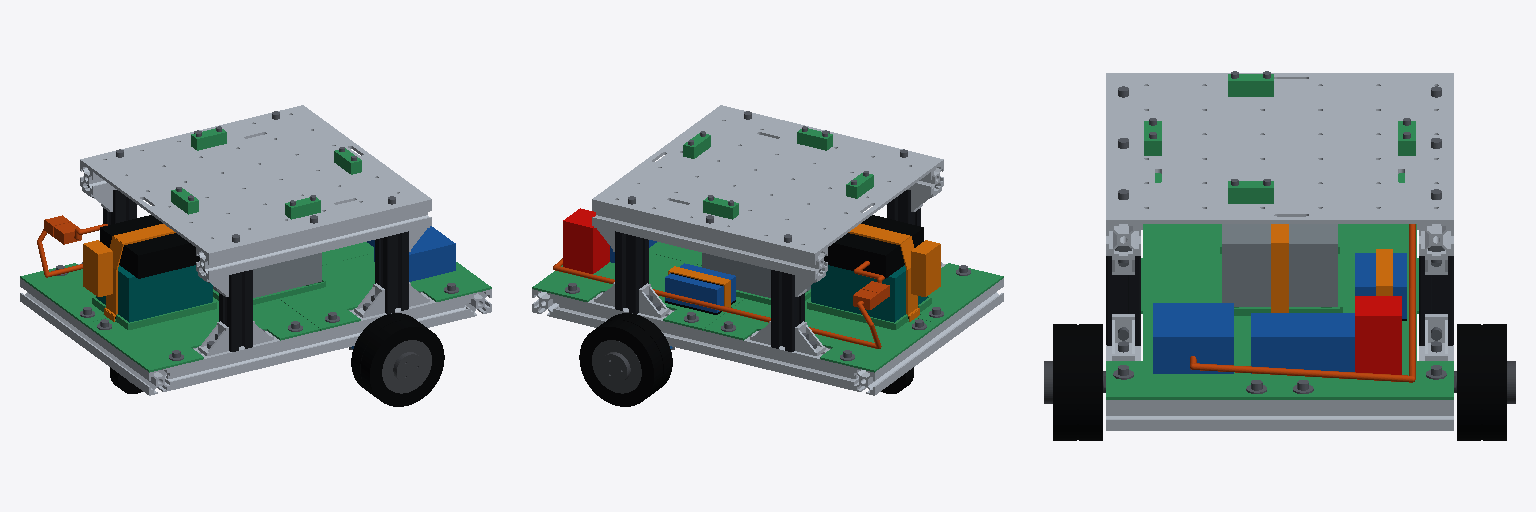
robot.urdf — amr_d64:
<?xml version='1.0' encoding='utf-8'?>
<robot name="amr_d64">
  <!--Generated from D6.4. SI units; +X forward, +Y left, +Z up. Inertias are estimates.-->
  <material name="aluminum">
    <color rgba="0.72 0.75 0.79 1" />
  </material>
  <material name="steel">
    <color rgba="0.38 0.4 0.43 1" />
  </material>
  <material name="pla">
    <color rgba="0.22 0.61 0.38 1" />
  </material>
  <material name="posts">
    <color rgba="0.12 0.13 0.15 1" />
  </material>
  <material name="mounts">
    <color rgba="0.15 0.43 0.69 1" />
  </material>
  <material name="motor">
    <color rgba="0.3 0.31 0.33 1" />
  </material>
  <material name="rubber">
    <color rgba="0.055 0.06 0.065 1" />
  </material>
  <material name="battery">
    <color rgba="0.02 0.4 0.4 1" />
  </material>
  <material name="computer">
    <color rgba="0.5 0.54 0.57 1" />
  </material>
  <material name="electronics">
    <color rgba="0.12 0.37 0.67 1" />
  </material>
  <material name="estop">
    <color rgba="0.85 0.08 0.06 1" />
  </material>
  <material name="belts">
    <color rgba="0.88 0.47 0.07 1" />
  </material>
  <material name="wires">
    <color rgba="0.76 0.3 0.08 1" />
  </material>
  <material name="payload">
    <color rgba="0.66 0.44 0.23 1" />
  </material>
  <link name="left_wheel_link">
    <inertial>
      <origin xyz="2.68715937167e-07 0.000842844210193 -1.43130870062e-06" rpy="0 0 0" />
      <mass value="0.45" />
      <inertia ixx="0.000337824360516" ixy="2.57511255333e-09" ixz="-2.83491628371e-11" iyy="0.000517319399072" iyz="-1.83797301139e-08" izz="0.000337817873043" />
    </inertial>
    <visual name="left_wheel_link_motor">
      <geometry>
        <mesh filename="meshes/left_wheel_link_motor.stl" scale="1 1 1" />
      </geometry>
      <material name="motor" />
    </visual>
    <visual name="left_wheel_link_rubber">
      <geometry>
        <mesh filename="meshes/left_wheel_link_rubber.stl" scale="1 1 1" />
      </geometry>
      <material name="rubber" />
    </visual>
    <collision name="left_wheel_link_rolling_contact">
      <origin xyz="0 0 0" rpy="1.57079632679 0 0" />
      <geometry>
        <cylinder radius="0.05035" length="0.043" />
      </geometry>
    </collision>
  </link>
  <link name="base_link">
    <inertial>
      <origin xyz="-0.0933615788726 -0.000826180823834 0.0802085217058" rpy="0 0 0" />
      <mass value="9.00487528613" />
      <inertia ixx="0.117124651941" ixy="0.0016813272398" ixz="0.0052368523072" iyy="0.169186420379" iyz="0.000154601519969" izz="0.221908703267" />
    </inertial>
    <visual name="base_link_motor">
      <geometry>
        <mesh filename="meshes/base_link_motor.stl" scale="1 1 1" />
      </geometry>
      <material name="motor" />
    </visual>
    <visual name="base_link_steel">
      <geometry>
        <mesh filename="meshes/base_link_steel.stl" scale="1 1 1" />
      </geometry>
      <material name="steel" />
    </visual>
    <visual name="base_link_aluminum">
      <geometry>
        <mesh filename="meshes/base_link_aluminum.stl" scale="1 1 1" />
      </geometry>
      <material name="aluminum" />
    </visual>
    <visual name="base_link_mounts">
      <geometry>
        <mesh filename="meshes/base_link_mounts.stl" scale="1 1 1" />
      </geometry>
      <material name="mounts" />
    </visual>
    <visual name="base_link_pla">
      <geometry>
        <mesh filename="meshes/base_link_pla.stl" scale="1 1 1" />
      </geometry>
      <material name="pla" />
    </visual>
    <visual name="base_link_posts">
      <geometry>
        <mesh filename="meshes/base_link_posts.stl" scale="1 1 1" />
      </geometry>
      <material name="posts" />
    </visual>
    <visual name="base_link_electronics">
      <geometry>
        <mesh filename="meshes/base_link_electronics.stl" scale="1 1 1" />
      </geometry>
      <material name="electronics" />
    </visual>
    <visual name="base_link_estop">
      <geometry>
        <mesh filename="meshes/base_link_estop.stl" scale="1 1 1" />
      </geometry>
      <material name="estop" />
    </visual>
    <visual name="base_link_computer">
      <geometry>
        <mesh filename="meshes/base_link_computer.stl" scale="1 1 1" />
      </geometry>
      <material name="computer" />
    </visual>
    <visual name="base_link_battery">
      <geometry>
        <mesh filename="meshes/base_link_battery.stl" scale="1 1 1" />
      </geometry>
      <material name="battery" />
    </visual>
    <visual name="base_link_rubber">
      <geometry>
        <mesh filename="meshes/base_link_rubber.stl" scale="1 1 1" />
      </geometry>
      <material name="rubber" />
    </visual>
    <visual name="base_link_belts">
      <geometry>
        <mesh filename="meshes/base_link_belts.stl" scale="1 1 1" />
      </geometry>
      <material name="belts" />
    </visual>
    <visual name="base_link_wires">
      <geometry>
        <mesh filename="meshes/base_link_wires.stl" scale="1 1 1" />
      </geometry>
      <material name="wires" />
    </visual>
    <collision name="base_link_Rail400_1">
      <origin xyz="-0.09 -0.135 0.03365" rpy="0 0 0" />
      <geometry>
        <box size="0.4 0.03 0.03" />
      </geometry>
    </collision>
    <collision name="base_link_Rail400_2">
      <origin xyz="-0.09 -0.065 0.03365" rpy="0 0 0" />
      <geometry>
        <box size="0.4 0.03 0.03" />
      </geometry>
    </collision>
    <collision name="base_link_Rail400_3">
      <origin xyz="-0.09 0.065 0.03365" rpy="0 0 0" />
      <geometry>
        <box size="0.4 0.03 0.03" />
      </geometry>
    </collision>
    <collision name="base_link_Rail400_4">
      <origin xyz="-0.09 0.135 0.03365" rpy="0 0 0" />
      <geometry>
        <box size="0.4 0.03 0.03" />
      </geometry>
    </collision>
    <collision name="base_link_Cross300_1">
      <origin xyz="-0.305 0 0.03365" rpy="0 0 0" />
      <geometry>
        <box size="0.03 0.3 0.03" />
      </geometry>
    </collision>
    <collision name="base_link_Cross300_2">
      <origin xyz="0.125 0 0.03365" rpy="0 0 0" />
      <geometry>
        <box size="0.03 0.3 0.03" />
      </geometry>
    </collision>
    <collision name="base_link_CustomMotorMountL">
      <origin xyz="0 0.135 0.00165" rpy="0 0 0" />
      <geometry>
        <box size="0.09 0.03 0.034" />
      </geometry>
    </collision>
    <collision name="base_link_CustomMotorMountR">
      <origin xyz="0 -0.135 0.00165" rpy="0 0 0" />
      <geometry>
        <box size="0.09 0.03 0.034" />
      </geometry>
    </collision>
    <collision name="base_link_CasterAdapter">
      <origin xyz="-0.24 0 0.01665" rpy="0 0 0" />
      <geometry>
        <box size="0.08 0.17 0.004" />
      </geometry>
    </collision>
    <collision name="base_link_CasterTop">
      <origin xyz="-0.24 0 0.0134" rpy="0 0 0" />
      <geometry>
        <box size="0.059 0.047 0.0025" />
      </geometry>
    </collision>
    <collision name="base_link_Reserved_Protection">
      <origin xyz="0.08 -0.075 0.07915" rpy="0 0 0" />
      <geometry>
        <box size="0.07 0.07 0.035" />
      </geometry>
    </collision>
    <collision name="base_link_Reserved_ClampAndPower">
      <origin xyz="0.09 0.02 0.07915" rpy="0 0 0" />
      <geometry>
        <box size="0.05 0.09 0.035" />
      </geometry>
    </collision>
    <collision name="base_link_Reserved_EmergencyStop">
      <origin xyz="0.105 0.085 0.09165" rpy="0 0 0" />
      <geometry>
        <box size="0.04 0.04 0.06" />
      </geometry>
    </collision>
    <collision name="base_link_Reserved_SupervisorRS485">
      <origin xyz="-0.05 0.0875 0.06865" rpy="0 0 0" />
      <geometry>
        <box size="0.07 0.045 0.03" />
      </geometry>
    </collision>
    <collision name="base_link_Reserved_Computer">
      <origin xyz="-0.09 0 0.08765" rpy="0 0 0" />
      <geometry>
        <box size="0.12 0.1 0.06" />
      </geometry>
    </collision>
    <collision name="base_link_AluminumDeckD3">
      <origin xyz="-0.09 0 0.18065" rpy="0 0 0" />
      <geometry>
        <box size="0.3 0.3 0.004" />
      </geometry>
    </collision>
    <collision name="base_link_PrintedStopXN">
      <origin xyz="-0.1995 -0.025 0.19015" rpy="0 0 0" />
      <geometry>
        <box size="0.015 0.04 0.015" />
      </geometry>
    </collision>
    <collision name="base_link_PrintedStopXP">
      <origin xyz="0.0195 -0.025 0.19015" rpy="0 0 0" />
      <geometry>
        <box size="0.015 0.04 0.015" />
      </geometry>
    </collision>
    <collision name="base_link_PrintedStopYN">
      <origin xyz="-0.09 -0.1095 0.19015" rpy="0 0 0" />
      <geometry>
        <box size="0.04 0.015 0.015" />
      </geometry>
    </collision>
    <collision name="base_link_PrintedStopYP">
      <origin xyz="-0.09 0.1095 0.19015" rpy="0 0 0" />
      <geometry>
        <box size="0.04 0.015 0.015" />
      </geometry>
    </collision>
    <collision name="base_link_Upright3030_0">
      <origin xyz="-0.195 -0.135 0.09865" rpy="0 0 0" />
      <geometry>
        <box size="0.03 0.03 0.1" />
      </geometry>
    </collision>
    <collision name="base_link_Upright3030_1">
      <origin xyz="-0.195 0.135 0.09865" rpy="0 0 0" />
      <geometry>
        <box size="0.03 0.03 0.1" />
      </geometry>
    </collision>
    <collision name="base_link_Upright3030_2">
      <origin xyz="0.015 -0.135 0.09865" rpy="0 0 0" />
      <geometry>
        <box size="0.03 0.03 0.1" />
      </geometry>
    </collision>
    <collision name="base_link_Upright3030_3">
      <origin xyz="0.015 0.135 0.09865" rpy="0 0 0" />
      <geometry>
        <box size="0.03 0.03 0.1" />
      </geometry>
    </collision>
    <collision name="base_link_UpperRail3030_0">
      <origin xyz="-0.09 -0.135 0.16365" rpy="0 0 0" />
      <geometry>
        <box size="0.3 0.03 0.03" />
      </geometry>
    </collision>
    <collision name="base_link_UpperRail3030_1">
      <origin xyz="-0.09 0.135 0.16365" rpy="0 0 0" />
      <geometry>
        <box size="0.3 0.03 0.03" />
      </geometry>
    </collision>
    <collision name="base_link_seam_beam_0">
      <origin xyz="-0.09 0 0.0449" rpy="0 0 0" />
      <geometry>
        <box size="0.064 0.1 0.0025" />
      </geometry>
    </collision>
    <collision name="base_link_seam_beam_1">
      <origin xyz="-0.09 -0.02925 0.0474" rpy="0 0 0" />
      <geometry>
        <box size="0.064 0.0415 0.0025" />
      </geometry>
    </collision>
    <collision name="base_link_seam_beam_2">
      <origin xyz="-0.09 0.02925 0.0474" rpy="0 0 0" />
      <geometry>
        <box size="0.064 0.0415 0.0025" />
      </geometry>
    </collision>
    <collision name="base_link_seam_beam_3">
      <origin xyz="-0.1204 0 0.03615" rpy="0 0 0" />
      <geometry>
        <box size="0.0032 0.1 0.015" />
      </geometry>
    </collision>
    <collision name="base_link_seam_beam_4">
      <origin xyz="-0.0596 0 0.03615" rpy="0 0 0" />
      <geometry>
        <box size="0.0032 0.1 0.015" />
      </geometry>
    </collision>
    <collision name="base_link_seam_beam_5">
      <origin xyz="-0.09 -0.0484 0.03365" rpy="0 0 0" />
      <geometry>
        <box size="0.064 0.0032 0.02" />
      </geometry>
    </collision>
    <collision name="base_link_seam_beam_6">
      <origin xyz="-0.09 0.0484 0.03365" rpy="0 0 0" />
      <geometry>
        <box size="0.064 0.0032 0.02" />
      </geometry>
    </collision>
    <collision name="base_link_FloorPLA_0_0">
      <origin xyz="-0.2051 -0.0751 0.04985" rpy="0 0 0" />
      <geometry>
        <box size="0.2298 0.1498 0.0024" />
      </geometry>
    </collision>
    <collision name="base_link_FloorPLA_0_0_rib">
      <origin xyz="-0.206 -0.0235 0.04115" rpy="0 0 0" />
      <geometry>
        <box size="0.168 0.0174 0.015" />
      </geometry>
    </collision>
    <collision name="base_link_FloorPLA_0_1">
      <origin xyz="-0.2051 0.0751 0.04985" rpy="0 0 0" />
      <geometry>
        <box size="0.2298 0.1498 0.0024" />
      </geometry>
    </collision>
    <collision name="base_link_FloorPLA_0_1_rib">
      <origin xyz="-0.206 0.0235 0.04115" rpy="0 0 0" />
      <geometry>
        <box size="0.168 0.0174 0.015" />
      </geometry>
    </collision>
    <collision name="base_link_FloorPLA_1_0">
      <origin xyz="0.0251 -0.0751 0.04985" rpy="0 0 0" />
      <geometry>
        <box size="0.2298 0.1498 0.0024" />
      </geometry>
    </collision>
    <collision name="base_link_FloorPLA_1_0_rib">
      <origin xyz="0.026 -0.0235 0.04115" rpy="0 0 0" />
      <geometry>
        <box size="0.168 0.0174 0.015" />
      </geometry>
    </collision>
    <collision name="base_link_FloorPLA_1_1">
      <origin xyz="0.0251 0.0751 0.04985" rpy="0 0 0" />
      <geometry>
        <box size="0.2298 0.1498 0.0024" />
      </geometry>
    </collision>
    <collision name="base_link_FloorPLA_1_1_rib">
      <origin xyz="0.026 0.0235 0.04115" rpy="0 0 0" />
      <geometry>
        <box size="0.168 0.0174 0.015" />
      </geometry>
    </collision>
    <collision name="base_link_BatteryBL1860B">
      <origin xyz="-0.2265 0 0.08465" rpy="0 0 0" />
      <geometry>
        <box size="0.113 0.075 0.062" />
      </geometry>
    </collision>
    <collision name="base_link_BatteryAdapter03">
      <origin xyz="-0.2265 0 0.13065" rpy="0 0 0" />
      <geometry>
        <box size="0.095 0.09 0.03" />
      </geometry>
    </collision>
    <collision name="base_link_BatteryBuckleEnvelope">
      <origin xyz="-0.302 0 0.11715" rpy="0 0 0" />
      <geometry>
        <box size="0.02 0.035 0.055" />
      </geometry>
    </collision>
  </link>
  <link name="right_wheel_link">
    <inertial>
      <origin xyz="-2.68715937167e-07 -0.000842844210193 -1.43130870061e-06" rpy="0 0 0" />
      <mass value="0.45" />
      <inertia ixx="0.000337824360516" ixy="2.57511255324e-09" ixz="2.83491629754e-11" iyy="0.000517319399072" iyz="1.83797301136e-08" izz="0.000337817873043" />
    </inertial>
    <visual name="right_wheel_link_motor">
      <geometry>
        <mesh filename="meshes/right_wheel_link_motor.stl" scale="1 1 1" />
      </geometry>
      <material name="motor" />
    </visual>
    <visual name="right_wheel_link_rubber">
      <geometry>
        <mesh filename="meshes/right_wheel_link_rubber.stl" scale="1 1 1" />
      </geometry>
      <material name="rubber" />
    </visual>
    <collision name="right_wheel_link_rolling_contact">
      <origin xyz="0 0 0" rpy="1.57079632679 0 0" />
      <geometry>
        <cylinder radius="0.05035" length="0.043" />
      </geometry>
    </collision>
  </link>
  <link name="caster_swivel_link">
    <inertial>
      <origin xyz="-0.00208368833284 3.45547710101e-19 -0.0060383207606" rpy="0 0 0" />
      <mass value="0.0887160418696" />
      <inertia ixx="2.00832544816e-05" ixy="4.85850705141e-22" ixz="-4.29660604946e-06" iyy="1.90849352283e-05" iyz="-2.53397249247e-22" izz="1.76394659271e-05" />
    </inertial>
    <visual name="caster_swivel_link_steel">
      <geometry>
        <mesh filename="meshes/caster_swivel_link_steel.stl" scale="1 1 1" />
      </geometry>
      <material name="steel" />
    </visual>
    <collision name="caster_swivel_link_swivel_race">
      <origin xyz="0 0 0" rpy="0 0 0" />
      <geometry>
        <cylinder radius="0.019" length="0.009" />
      </geometry>
    </collision>
    <collision name="caster_swivel_link_fork_0">
      <origin xyz="-0.003 -0.0125 -0.01875" rpy="0 0 0" />
      <geometry>
        <box size="0.036 0.003 0.0285" />
      </geometry>
    </collision>
    <collision name="caster_swivel_link_fork_1">
      <origin xyz="-0.003 0.0125 -0.01875" rpy="0 0 0" />
      <geometry>
        <box size="0.036 0.003 0.0285" />
      </geometry>
    </collision>
    <collision name="caster_swivel_link_fork_2">
      <origin xyz="-0.016 0 -0.033" rpy="0 0 0" />
      <geometry>
        <box size="0.006 0.032 0.006" />
      </geometry>
    </collision>
  </link>
  <link name="caster_wheel_link">
    <inertial>
      <origin xyz="2.84217094304e-17 2.29472925463e-19 0" rpy="0 0 0" />
      <mass value="0.035507350075" />
      <inertia ixx="6.57068391835e-06" ixy="2.3584551378e-23" ixz="-1.75899594661e-20" iyy="1.0774211165e-05" iyz="-2.27653595497e-22" izz="6.57068391835e-06" />
    </inertial>
    <visual name="caster_wheel_link_rubber">
      <geometry>
        <mesh filename="meshes/caster_wheel_link_rubber.stl" scale="1 1 1" />
      </geometry>
      <material name="rubber" />
    </visual>
    <visual name="caster_wheel_link_steel">
      <geometry>
        <mesh filename="meshes/caster_wheel_link_steel.stl" scale="1 1 1" />
      </geometry>
      <material name="steel" />
    </visual>
    <collision name="caster_wheel_link_rolling_contact">
      <origin xyz="0 0 0" rpy="1.57079632679 0 0" />
      <geometry>
        <cylinder radius="0.025" length="0.02" />
      </geometry>
    </collision>
  </link>
  <joint name="left_wheel_joint" type="continuous">
    <parent link="base_link" />
    <child link="left_wheel_link" />
    <origin xyz="0 0.1745 0" rpy="0 0 0" />
    <axis xyz="0 1 0" />
    <limit effort="0.96" velocity="12.0427718388" />
    <dynamics damping="0" friction="0" />
  </joint>
  <joint name="right_wheel_joint" type="continuous">
    <parent link="base_link" />
    <child link="right_wheel_link" />
    <origin xyz="0 -0.1745 0" rpy="0 0 0" />
    <axis xyz="0 1 0" />
    <limit effort="0.96" velocity="12.0427718388" />
    <dynamics damping="0" friction="0" />
  </joint>
  <joint name="caster_swivel_joint" type="continuous">
    <parent link="base_link" />
    <child link="caster_swivel_link" />
    <origin xyz="-0.24 0 0.00765" rpy="0 0 0" />
    <axis xyz="0 0 1" />
    <limit effort="0" velocity="30" />
    <dynamics damping="0" friction="0" />
  </joint>
  <joint name="caster_wheel_joint" type="continuous">
    <parent link="caster_swivel_link" />
    <child link="caster_wheel_link" />
    <origin xyz="-0.016 0 -0.033" rpy="0 0 0" />
    <axis xyz="0 1 0" />
    <limit effort="0" velocity="30" />
    <dynamics damping="0" friction="0" />
  </joint>
</robot>

--- Facts derived from the render (not from the file) ---
The picture shows the robot from 3 angles, left to right: view 1: azimuth 30°, elevation 25°; view 2: azimuth 150°, elevation 25°; view 3: azimuth 270°, elevation 25°; orthographic projection.
Model amr_d64 with 5 links and 4 joints (4 continuous), rooted at base_link, posed all joints at 0.
Links seen in each view (by area): view 1: base_link, right_wheel_link; view 2: base_link, left_wheel_link; view 3: base_link, left_wheel_link, right_wheel_link.
Link boxes in pixels (x1,y1,x2,y2): base_link: (20,105,491,395); right_wheel_link: (351,313,444,406); base_link: (532,105,1003,395); left_wheel_link: (579,313,672,406); base_link: (1103,71,1456,430); left_wheel_link: (1457,324,1515,440); right_wheel_link: (1044,324,1102,440).
Bounding box of the posed robot: 0.46 × 0.4066 × 0.252 m (x, y, z).
Meshes: 20 distinct files referenced, 20 mesh visuals loaded (20 binary STL).
